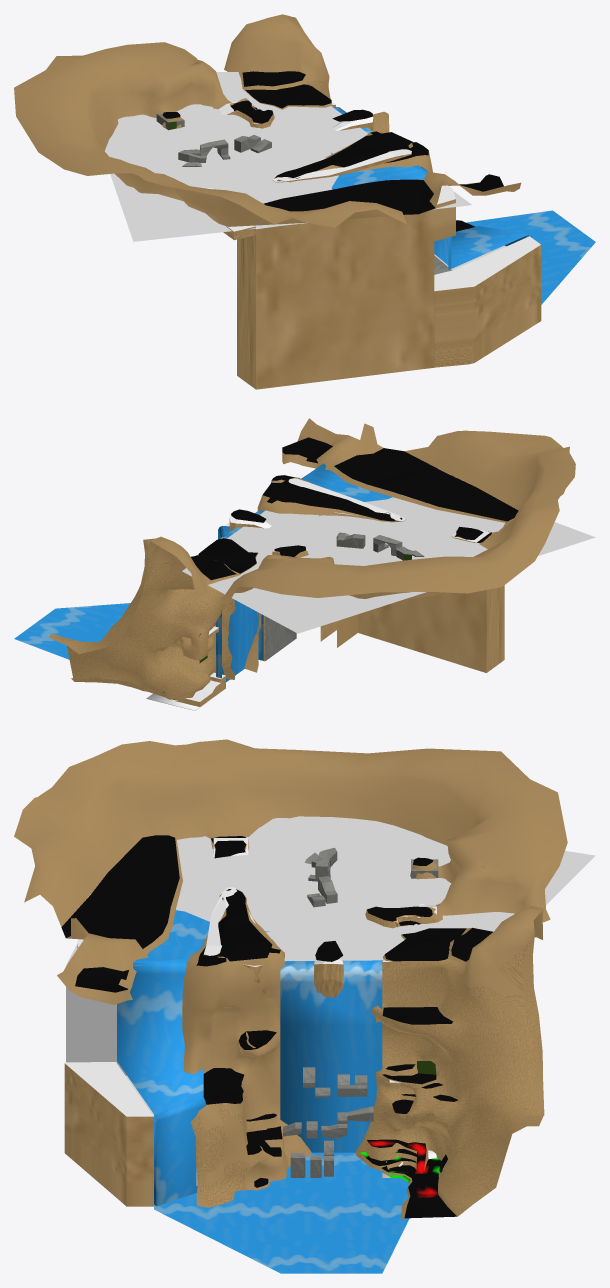
The model's file is waterfall.glb.
The picture shows the model from 3 angles, top to bottom: view 1: azimuth 30°, elevation 25°; view 2: azimuth 150°, elevation 25°; view 3: azimuth 270°, elevation 25°; orthographic projection. The views are drawn at different scales.
Visible parts, largest first — view 1: Cube.041-col, entry walls-col.001, Plane.003, Cube.032-col, top of falls floor-col, Plane.004, Cube.042-col, second landmass wall-col, Cube.014-col.001; view 2: entry walls-col.001, Plane.003, top of falls floor-col, Cube.041-col, Plane.004, Plane.004.001, second landmass wall-col, Plane.002-col, Cube.032-col, Cube.042-col, Cube.014-col.001; view 3: entry walls-col.001, Plane.004, Plane.003, top of falls floor-col, second landmass wall-col, Plane.004.001, Cube.032-col, Cube.042-col, Cube.042-col.001.
Boxes of the visible parts, x1,y1,x2,y2 form: Cube.041-col: (237,185,455,389); entry walls-col.001: (14,14,521,227); Plane.003: (105,72,505,270); Cube.032-col: (434,236,541,367); top of falls floor-col: (162,71,503,231); Plane.004: (331,153,595,304); Cube.042-col: (272,149,411,182); second landmass wall-col: (274,132,432,182); Cube.014-col.001: (178,139,230,162); entry walls-col.001: (48,418,575,700); Plane.003: (182,495,595,633); top of falls floor-col: (163,437,518,699); Cube.041-col: (358,585,504,672); Plane.004: (14,463,395,680); Plane.004.001: (216,510,264,681); second landmass wall-col: (244,475,402,672); Plane.002-col: (263,615,296,661); Cube.032-col: (224,522,358,647); Cube.042-col: (261,478,406,521); Cube.014-col.001: (373,535,411,560); entry walls-col.001: (14,739,567,1219); Plane.004: (117,910,409,1273); Plane.003: (66,816,595,1185); top of falls floor-col: (61,835,492,1218); second landmass wall-col: (182,892,311,1207); Plane.004.001: (280,960,382,1152); Cube.032-col: (64,1061,153,1206); Cube.042-col: (203,887,272,994); Cube.042-col.001: (314,957,343,997).
Bounding box in the file's own units: 565 × 237 × 469.
Materials: 6 (4 with a texture image).
